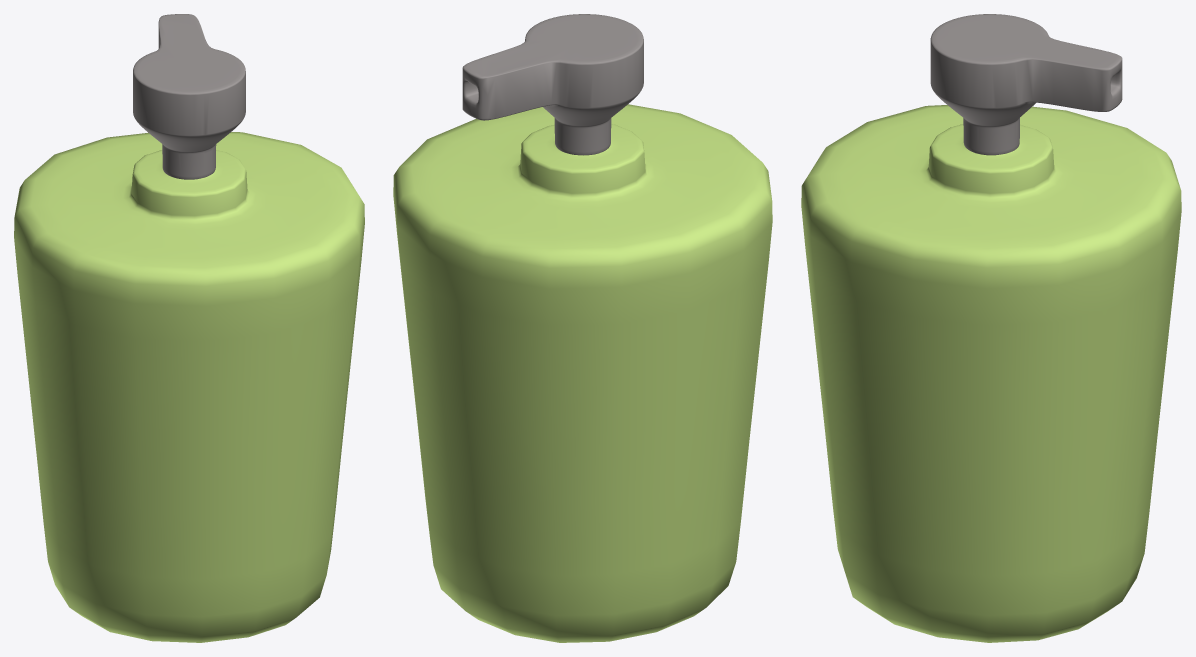
File: Jabón_manos.fbx
3 views of the same model, side by side, from view 1: azimuth 30°, elevation 25°; view 2: azimuth 150°, elevation 25°; view 3: azimuth 270°, elevation 25° (orthographic). The views are drawn at different scales.
Visible parts, largest first — view 1: Tapón jabón; view 2: Tapón jabón; view 3: Tapón jabón.
Part boxes in pixels (x1,y1,x2,y2): Tapón jabón: (14, 14, 364, 642); Tapón jabón: (393, 14, 772, 642); Tapón jabón: (801, 14, 1181, 642).
Bounding box in the file's own units: 1.75 × 2.87 × 1.77.
